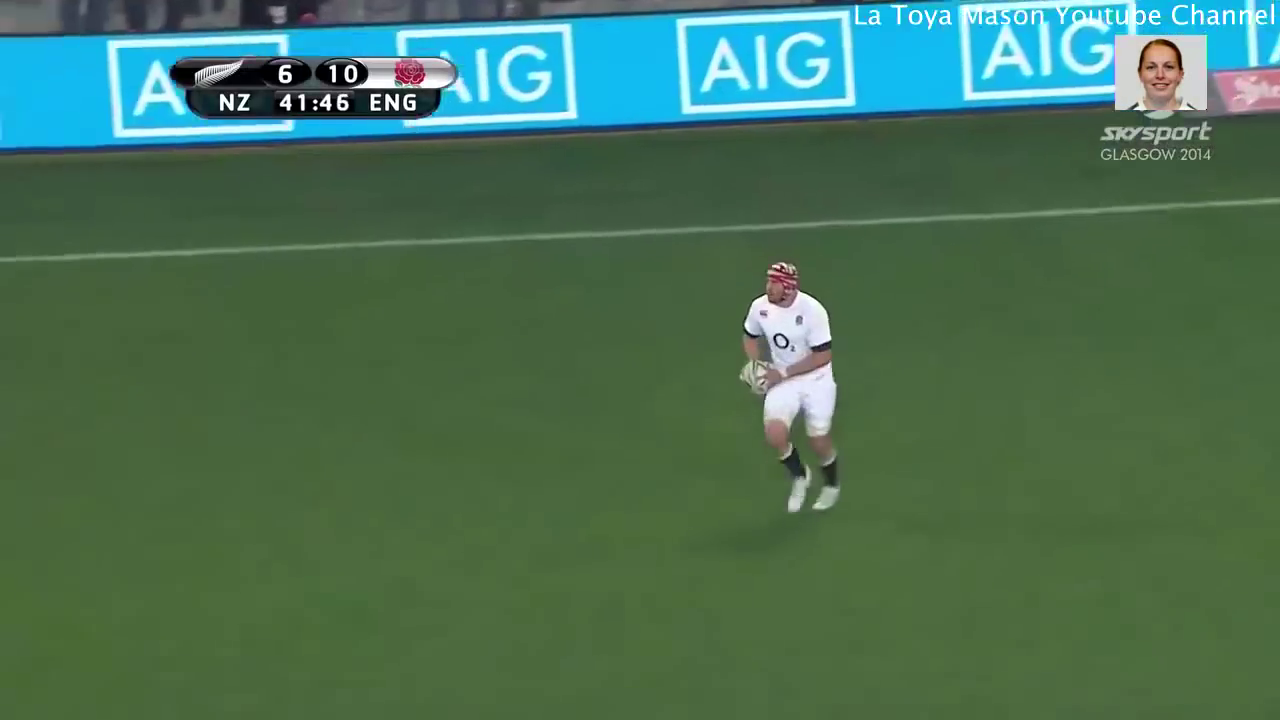ball: (734, 352, 780, 406)
player: (722, 230, 865, 520)
